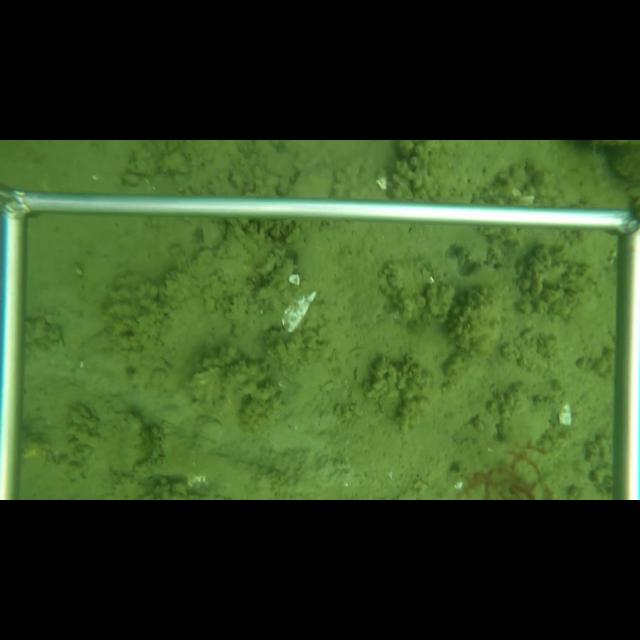Oyster-Closed: (286, 167, 338, 199), (372, 387, 405, 422)
